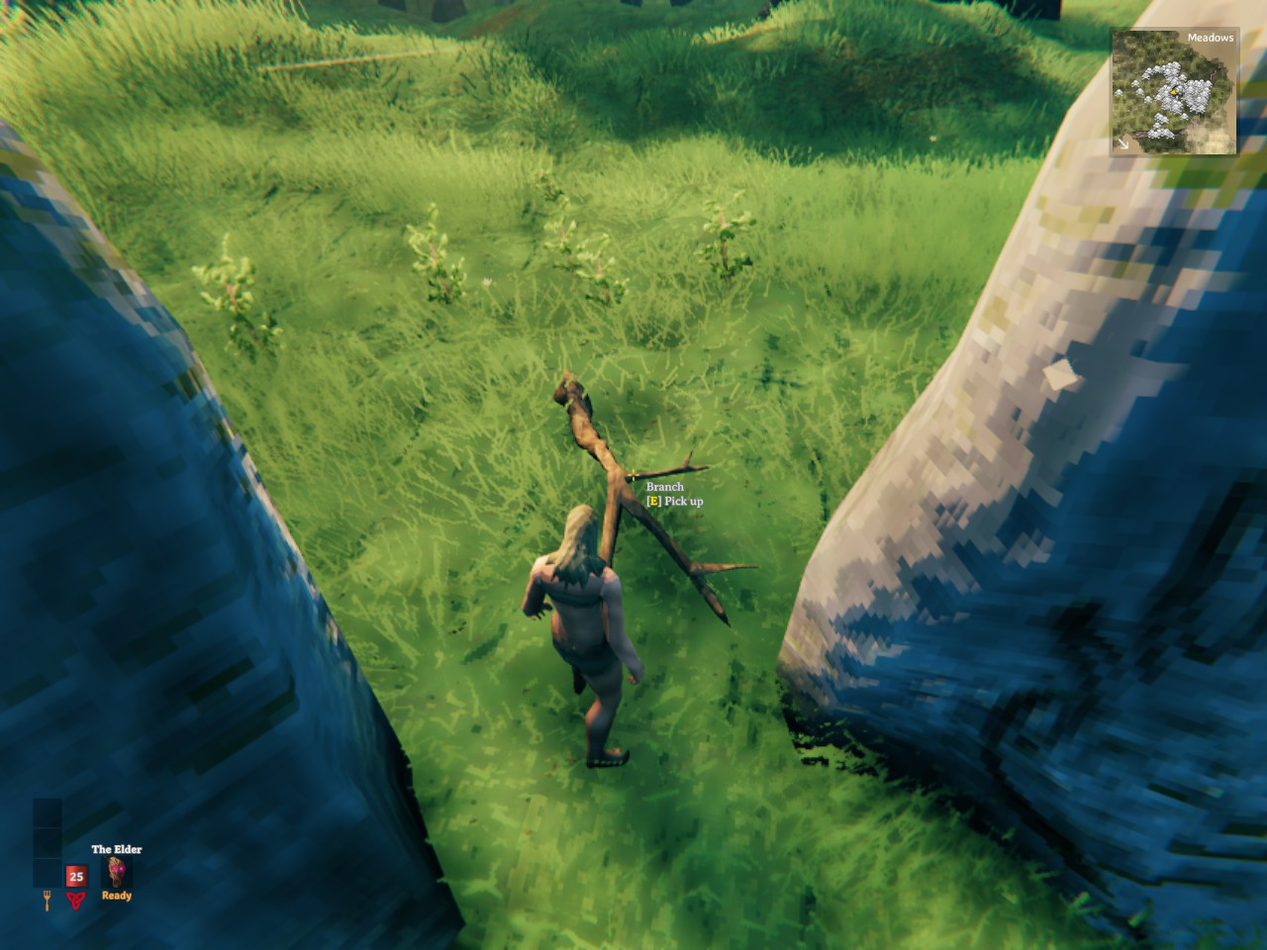Branch: (553, 372, 755, 624)
Health Bar: (65, 865, 86, 890)
